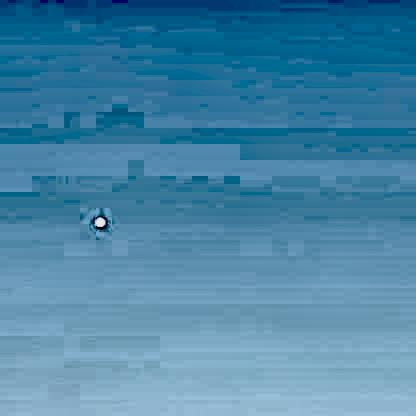golfball: (92, 212, 106, 227)
